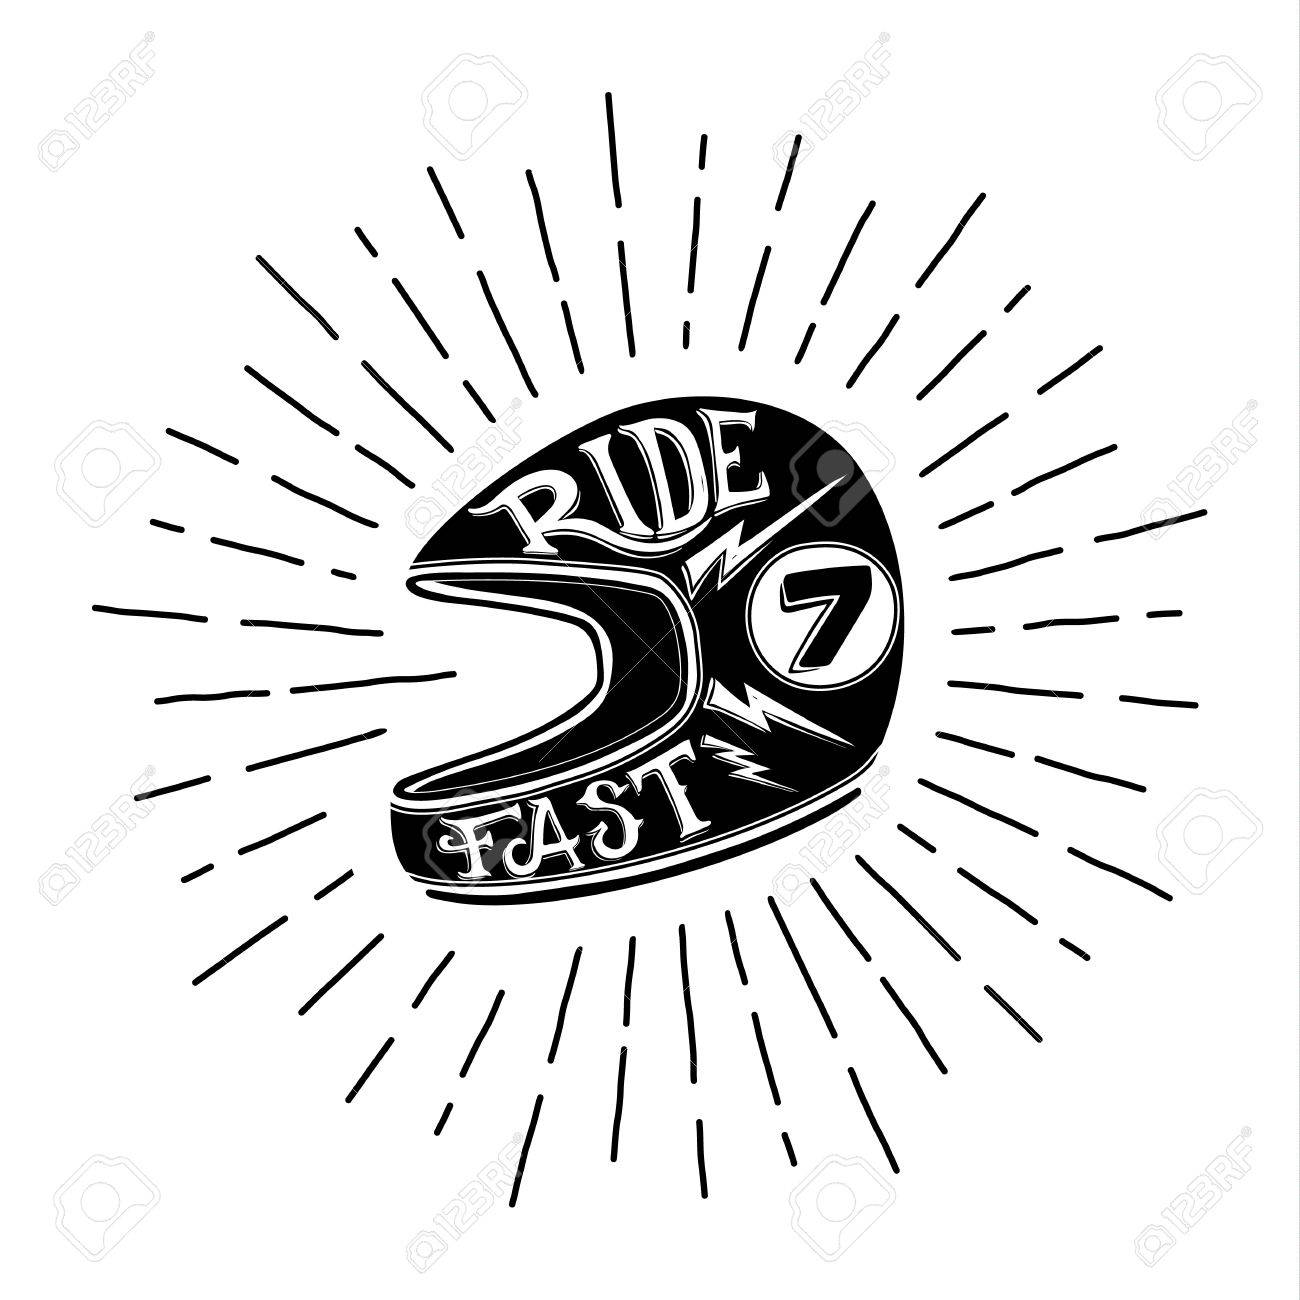with_helmet: (392, 388, 912, 910)
